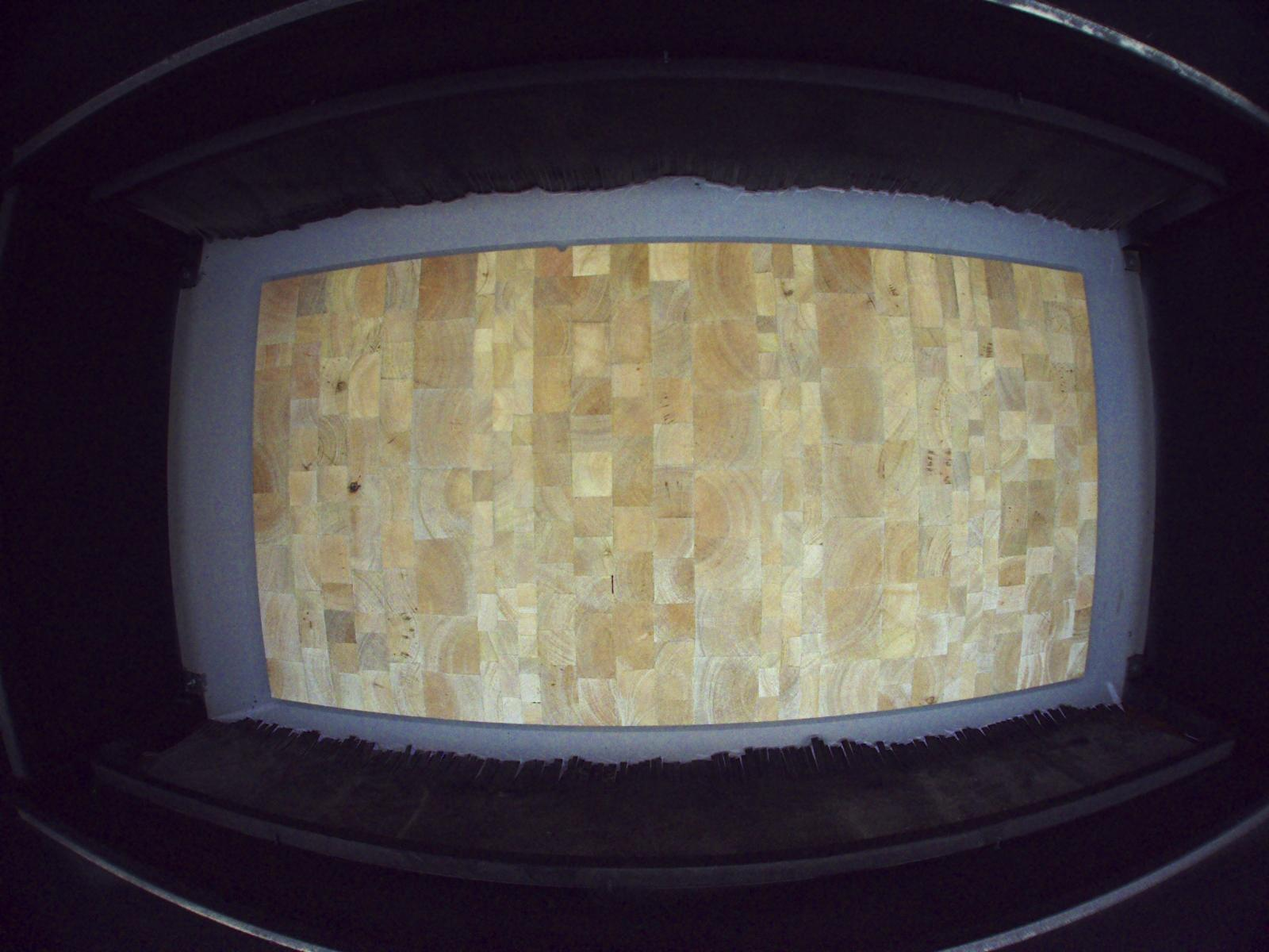nudillo: (347, 478, 364, 495)
